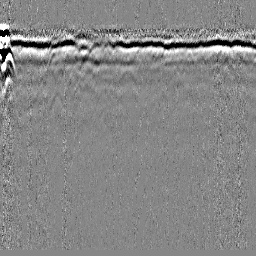cavity: (116, 64, 139, 89)
